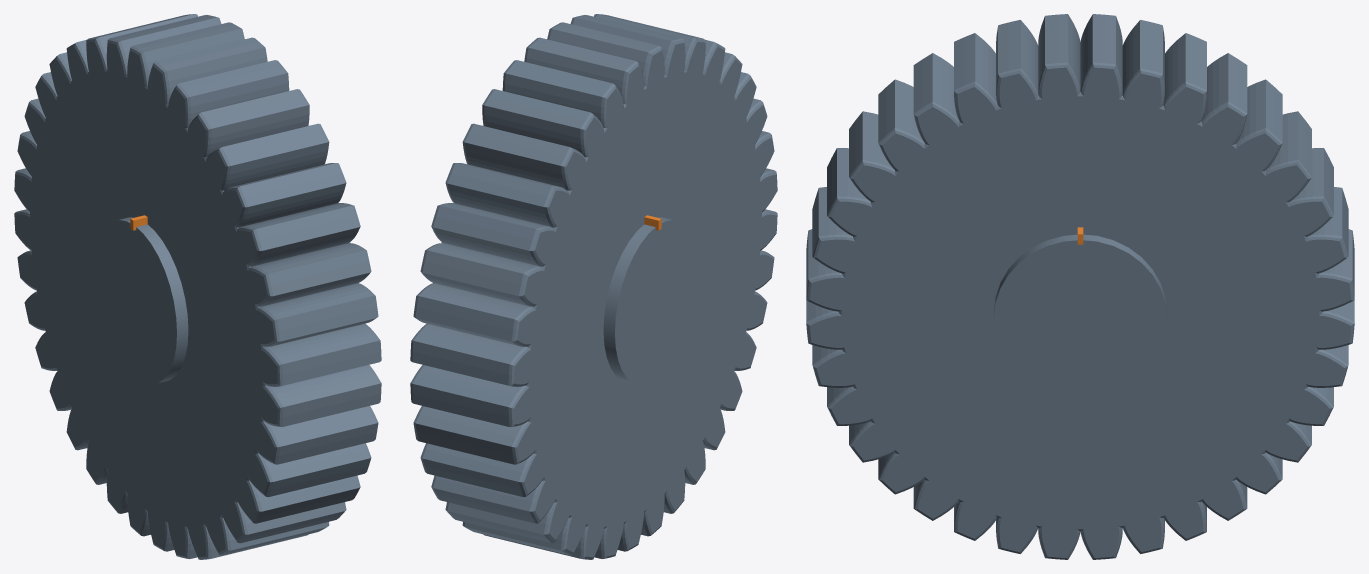
Rendered from gear_z4.glb.
The picture shows the model from 3 angles, left to right: view 1: azimuth 30°, elevation 25°; view 2: azimuth 150°, elevation 25°; view 3: azimuth 270°, elevation 25°; orthographic projection. The views are drawn at different scales.
Size of the model in its own units: 22 by 76.94 by 76.94.
